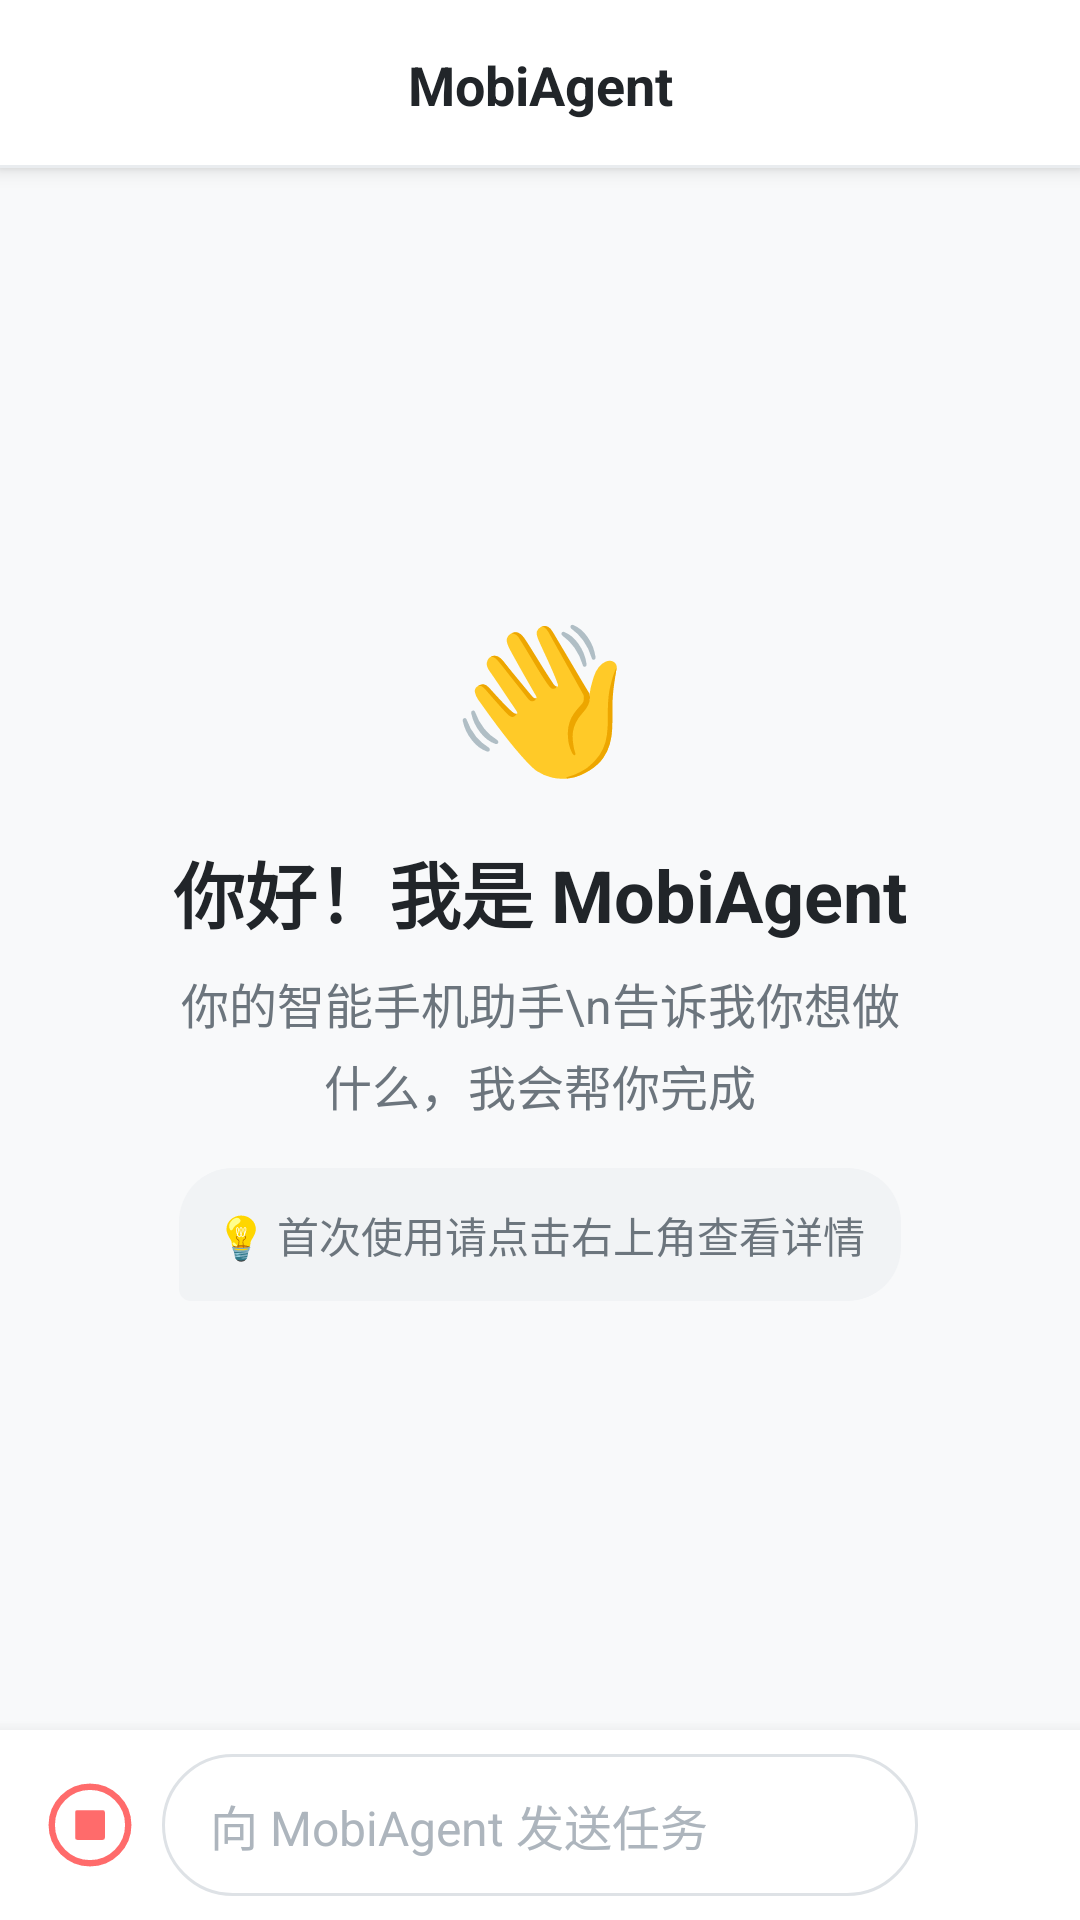

Named icons in this screenshot (1080 x 1920) and their centers, [x,y]:
终止任务: [90,1825]
